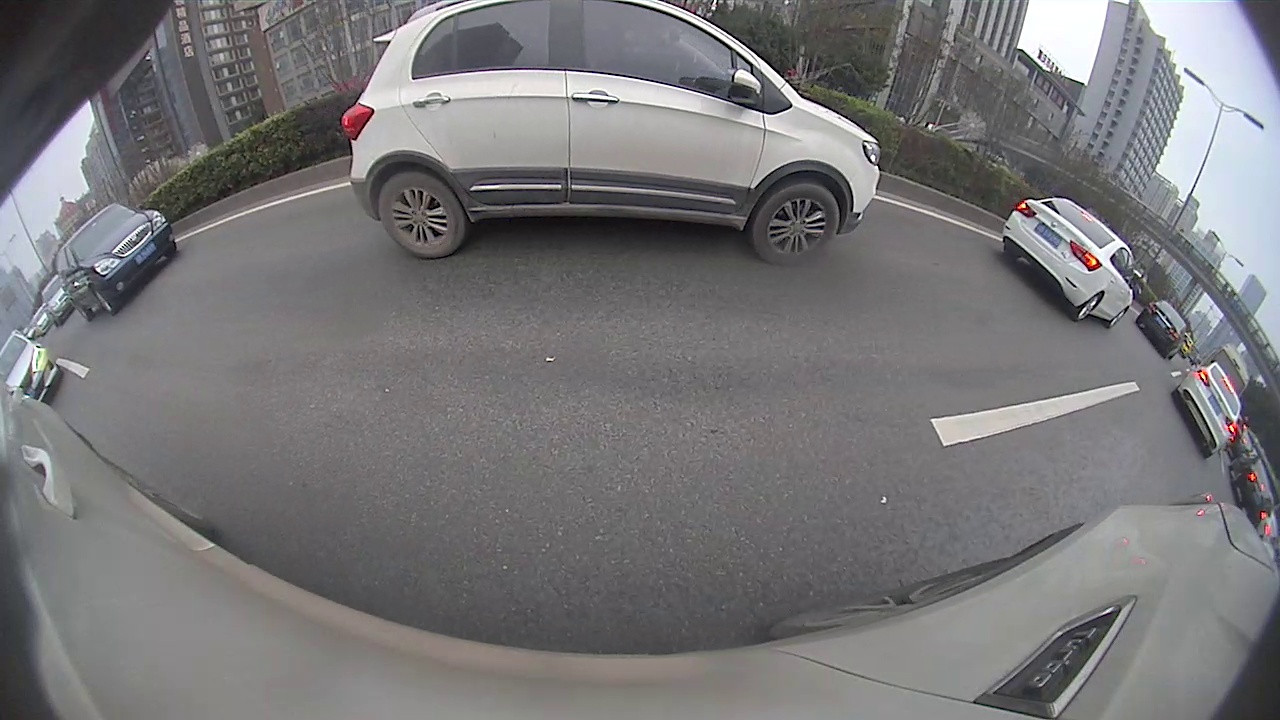car: (343, 2, 882, 268), (1002, 197, 1136, 331), (57, 202, 179, 322), (1172, 362, 1244, 459), (1138, 299, 1189, 362)
front: (753, 184, 839, 265)
rear: (376, 178, 466, 258), (1072, 293, 1105, 320)
